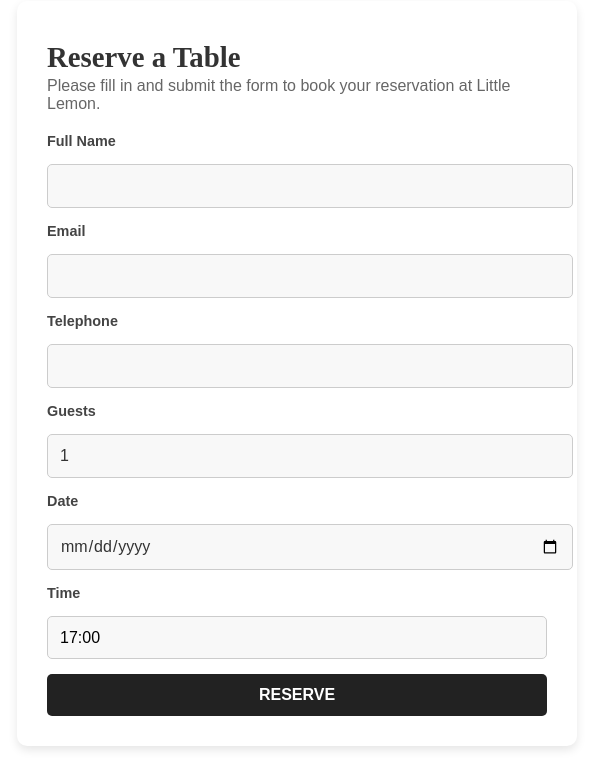
Scenario: ReservationForm Component › allows user to fill and submit the form
Type "John Doe" into the field labelled "Full Name" at coordinates (310, 186), box [47,164,573,208]
Type "john@example.com" into the field labelled "Email" at coordinates (310, 276), box [47,254,573,298]
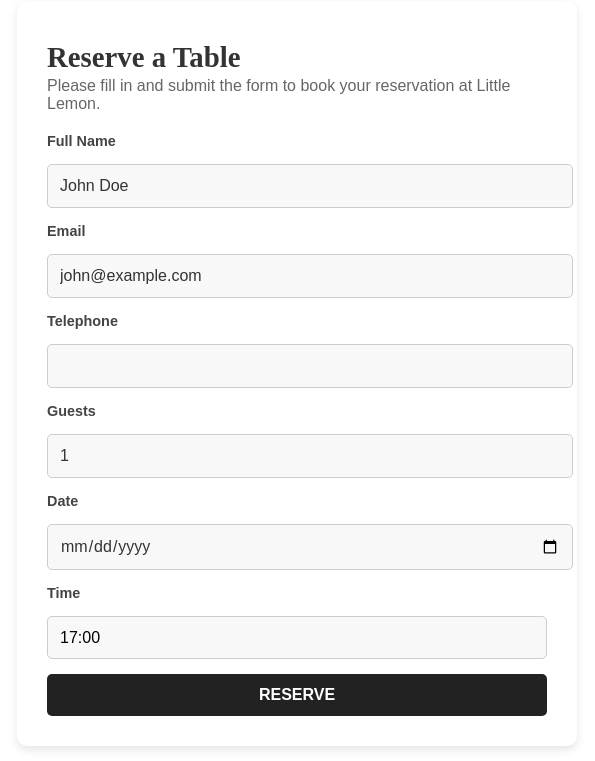
Type "1234567890" into the field labelled "Telephone" at coordinates (310, 366), box [47,344,573,388]
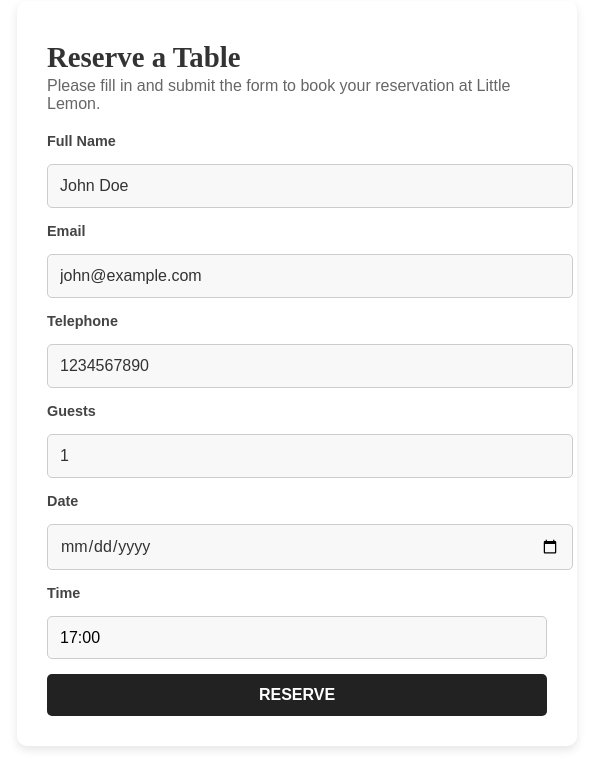
Replace the text in the number field labelled "Guests" with "2" at coordinates (310, 456), box [47,434,573,478]
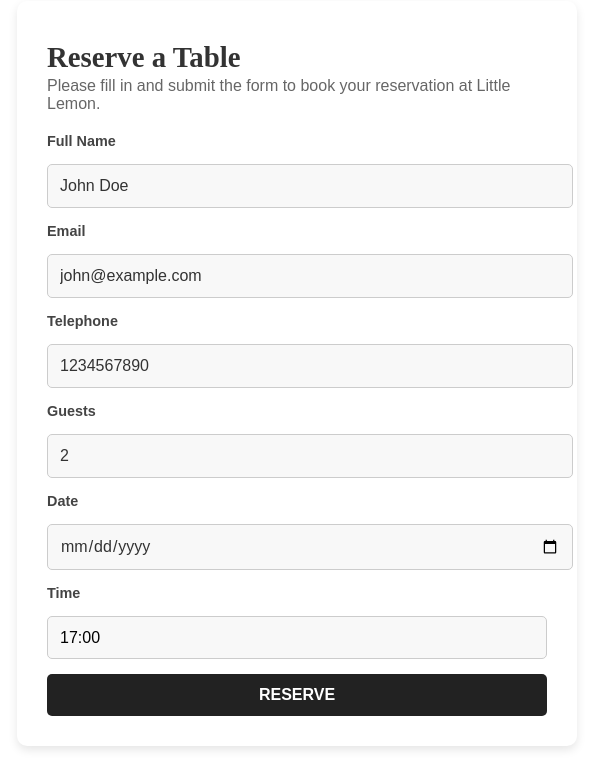
Type "2025-03-10" into the date field labelled "Date" at coordinates (310, 547), box [47,524,573,570]
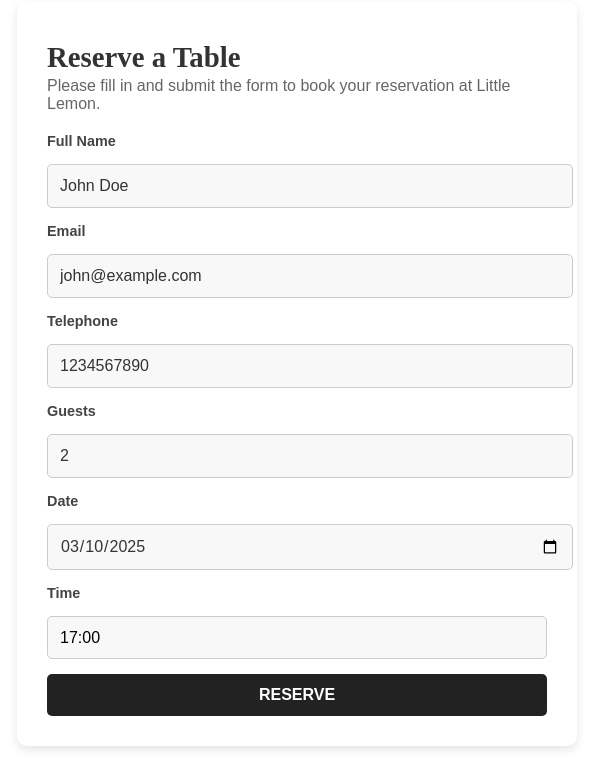
Select "18:30" in the dropdown labelled "Time" at coordinates (297, 637), box [47,616,547,659]
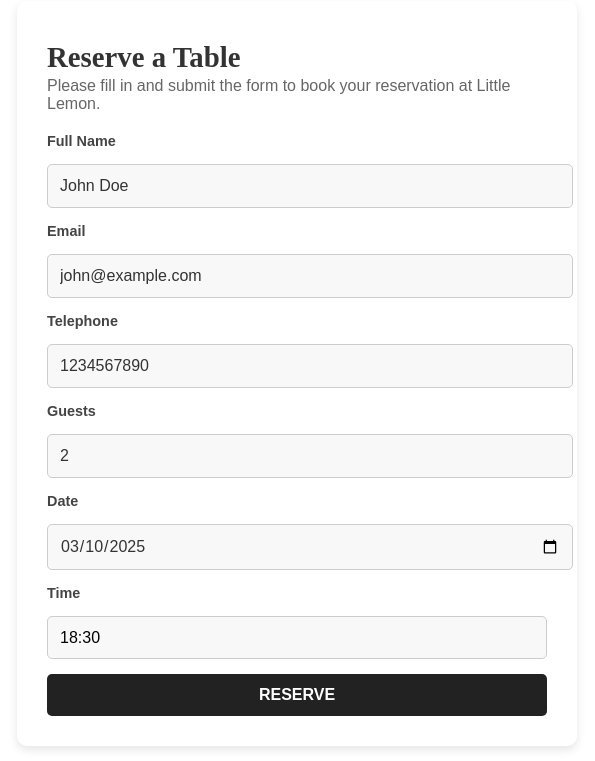
Click the button "Reserve" at coordinates (297, 695), box [47,674,547,716]
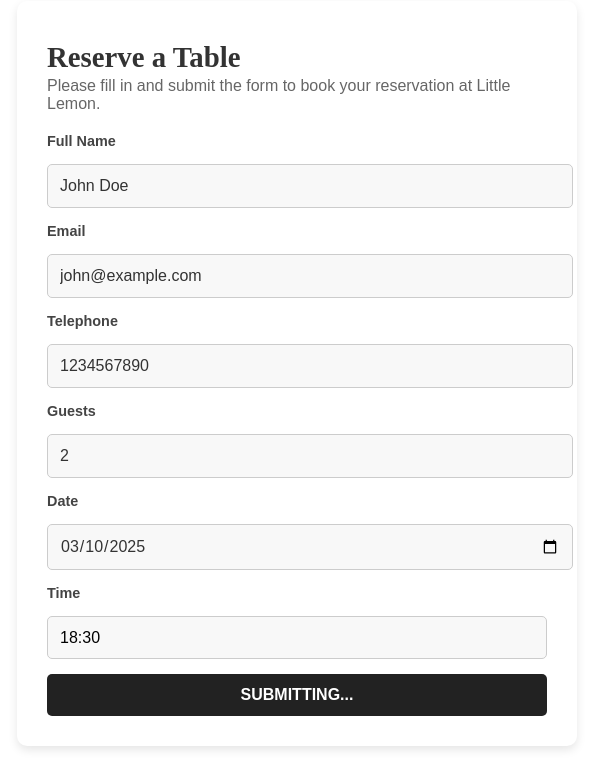
Now the button named "Reserve" is disabled, box [47,674,547,716]
